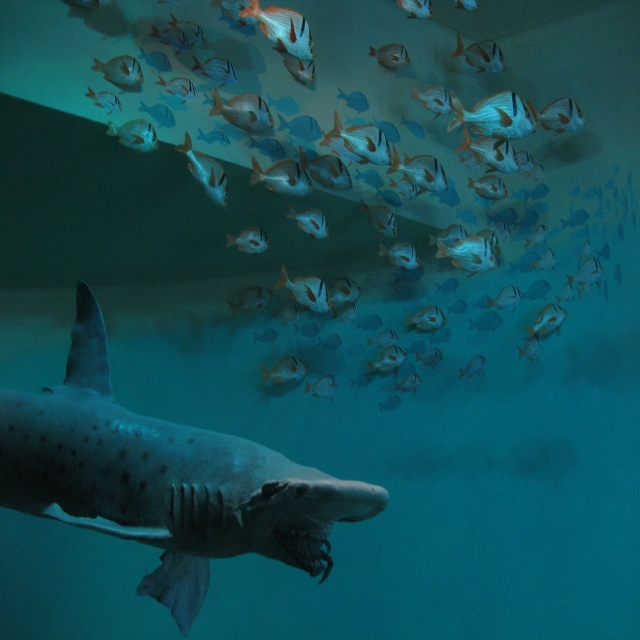Shark: (0, 279, 392, 636)
